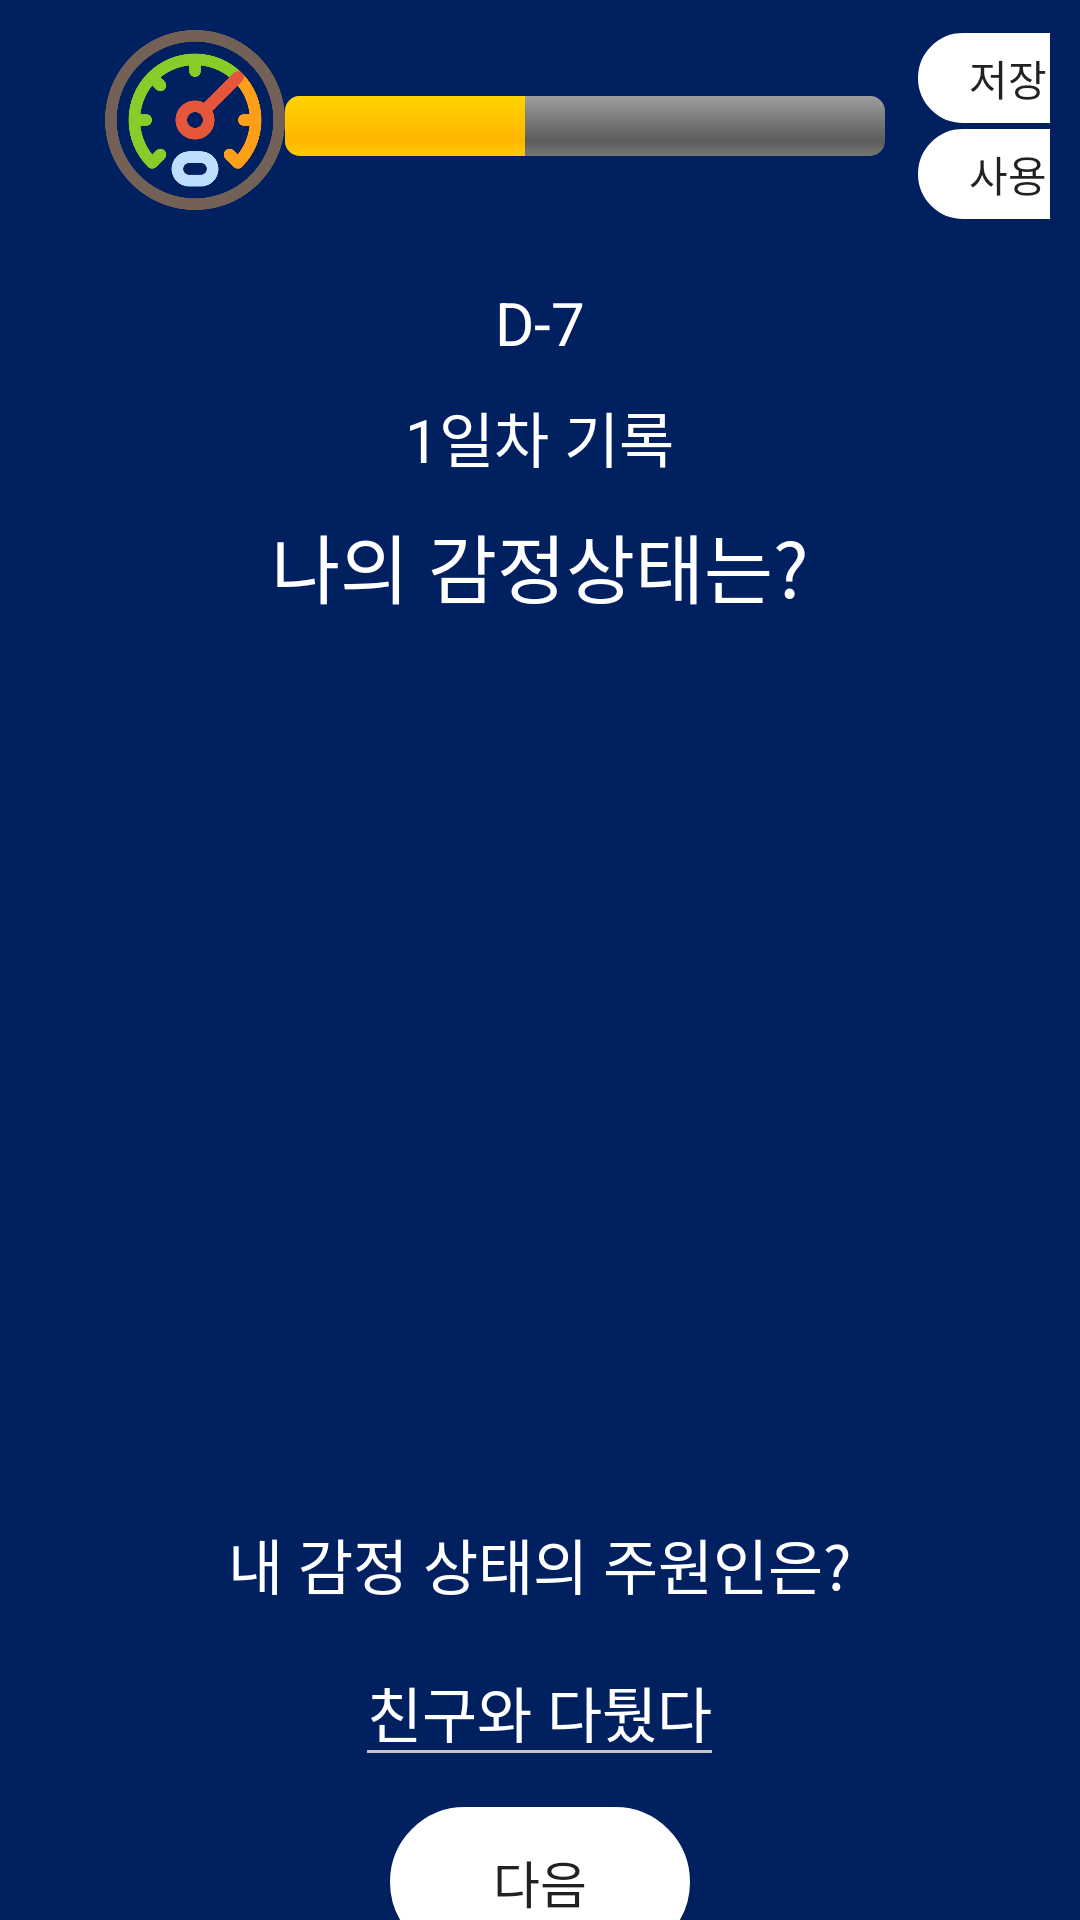

Where to tap for icons on this 1080 x 1920 app screen, as point (x, y):
gauge: point (195, 120)
